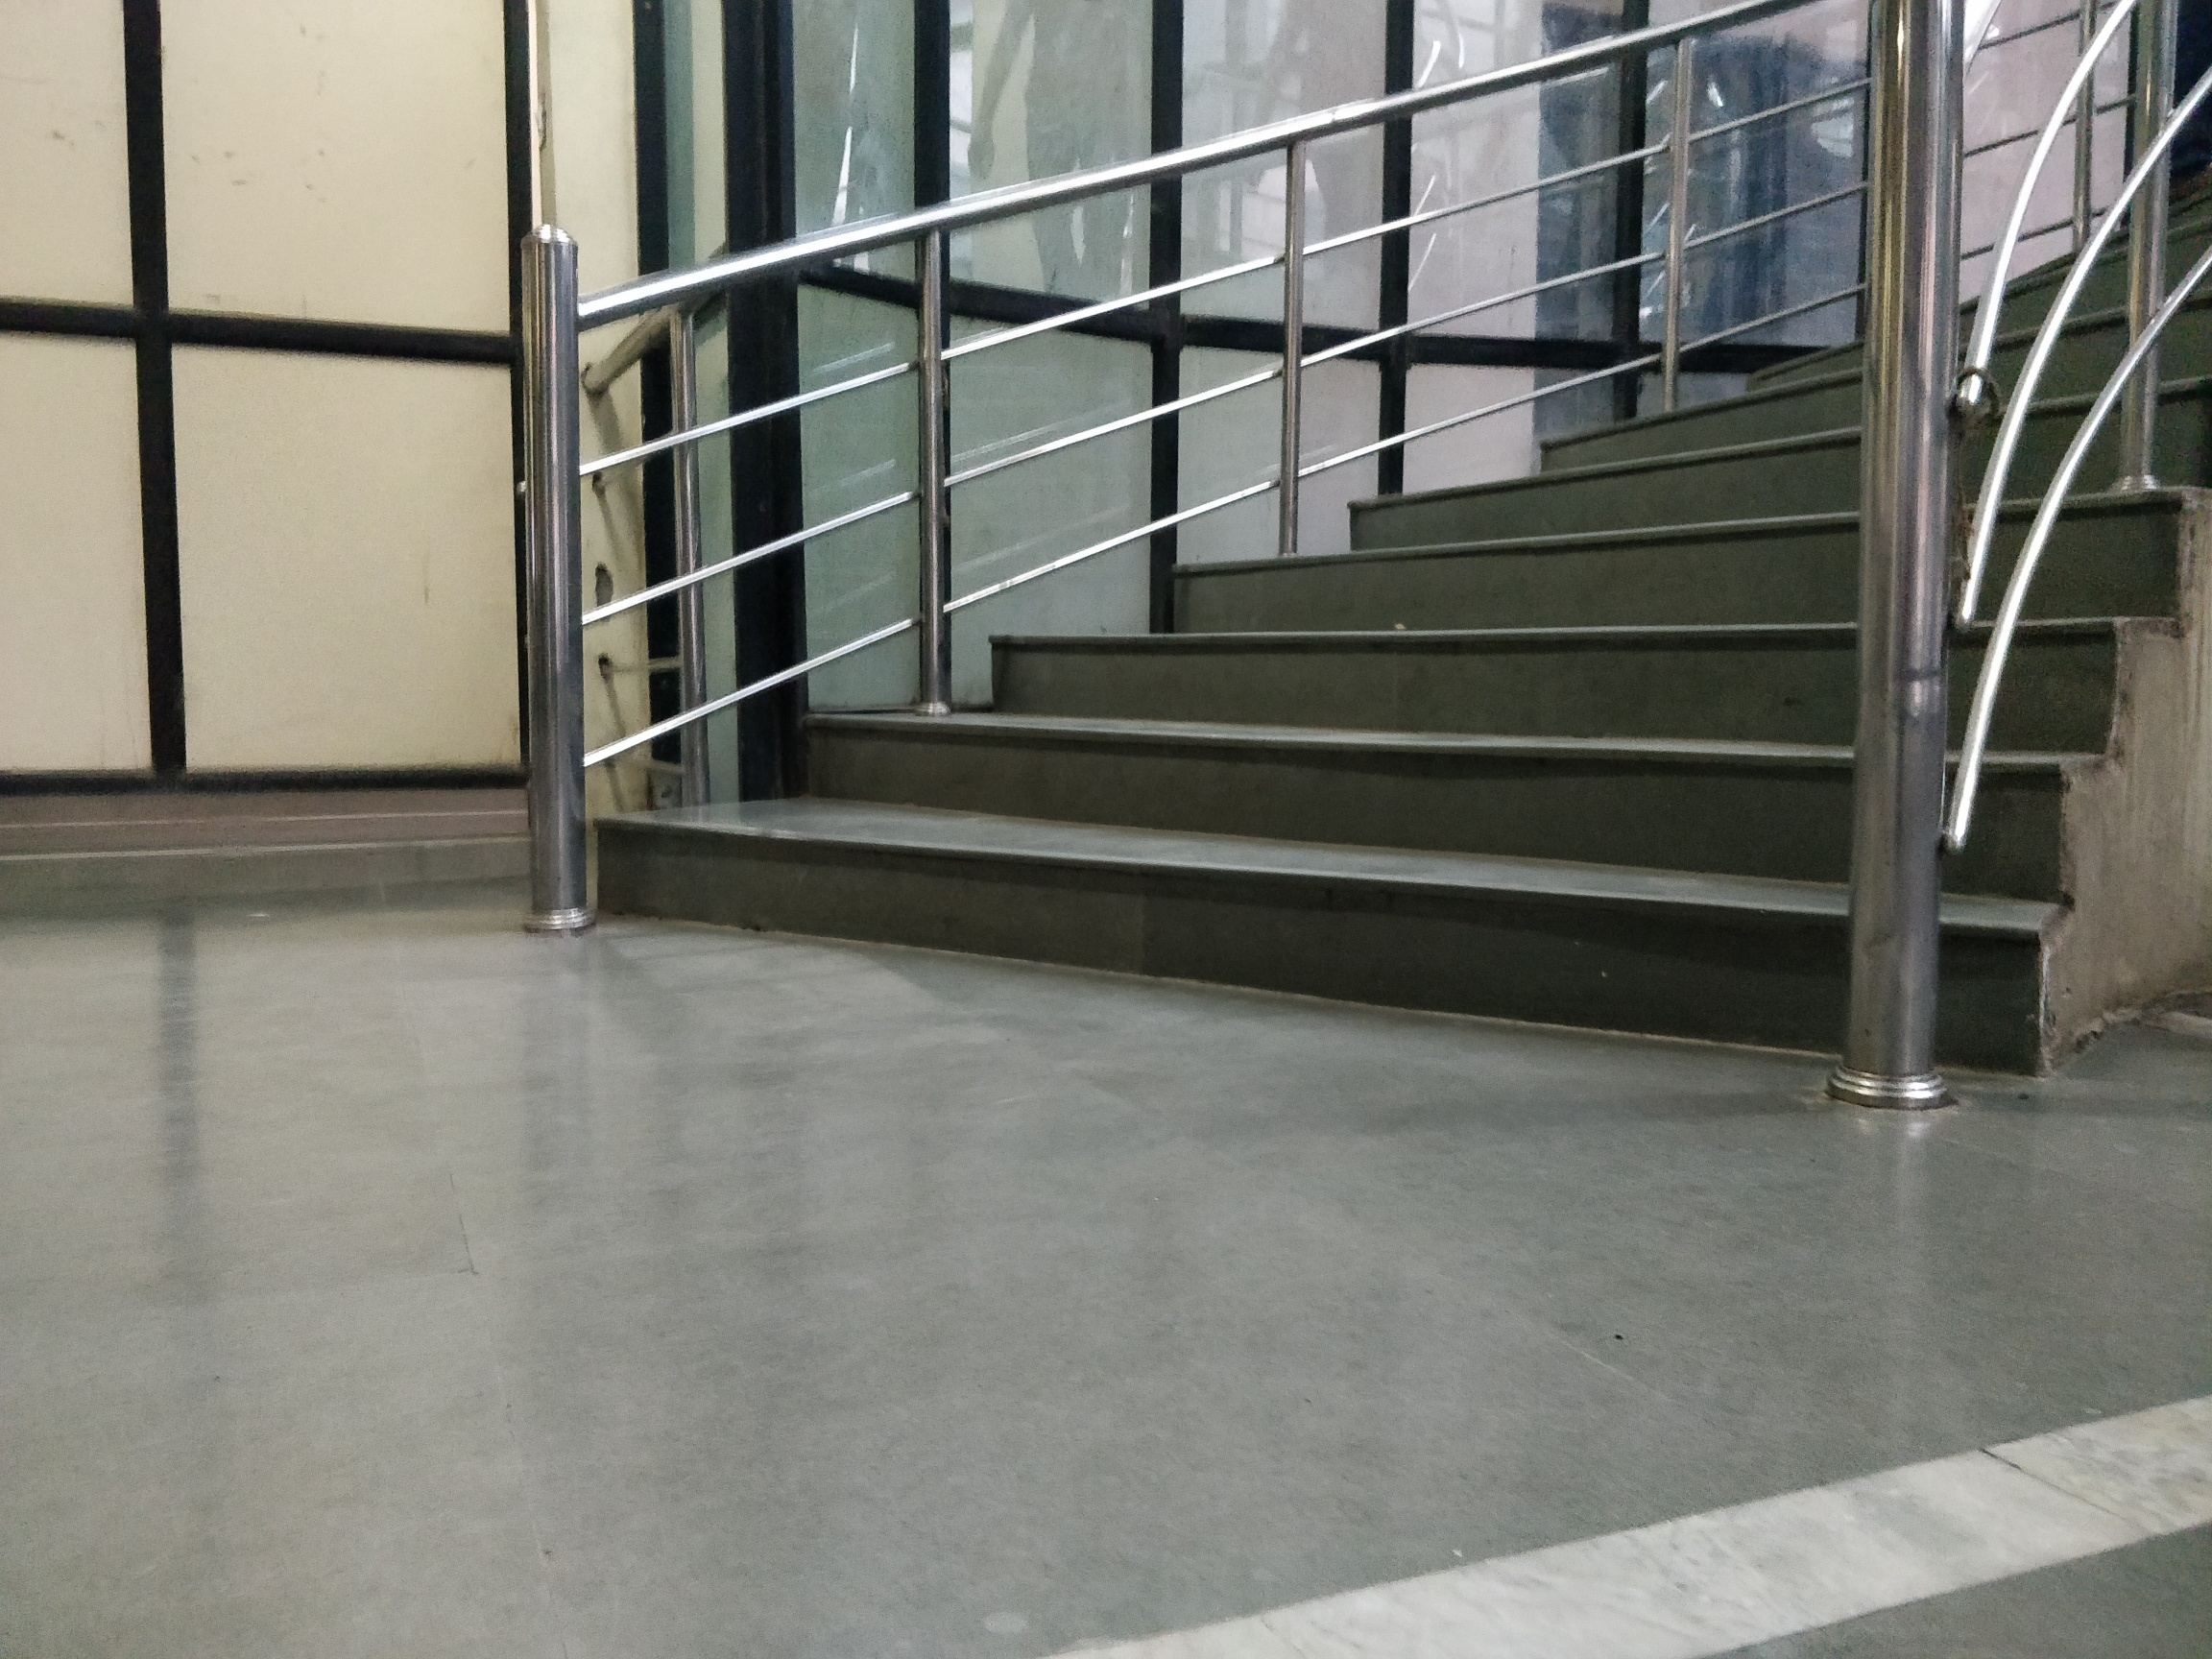stairs_up: (662, 228, 2151, 976)
